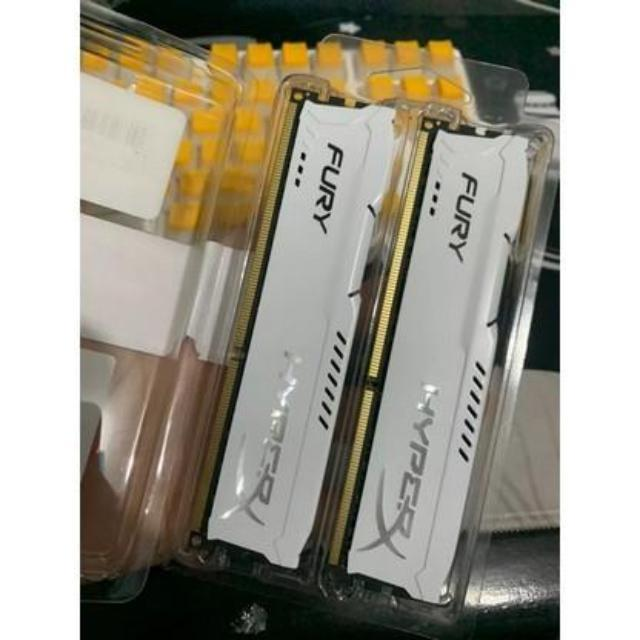RAM: (184, 84, 410, 570), (322, 110, 530, 608)
